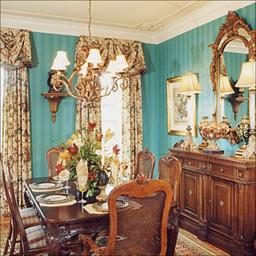Ventana: (89, 62, 130, 157)
